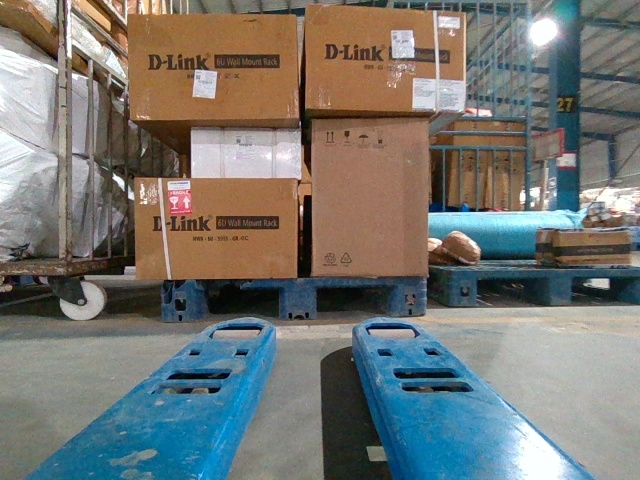block: (163, 278, 204, 321), (281, 279, 317, 322), (391, 277, 426, 318), (447, 270, 481, 309), (543, 270, 571, 308)
front: (162, 275, 426, 318)
hole pallet: (199, 287, 280, 323), (314, 286, 392, 318), (477, 279, 548, 308), (571, 281, 638, 303)
